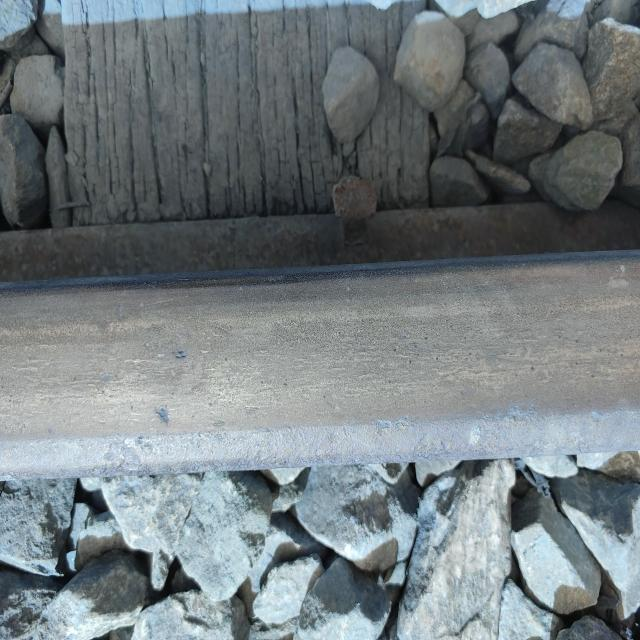Good Fasteners: (332, 175, 377, 220)
